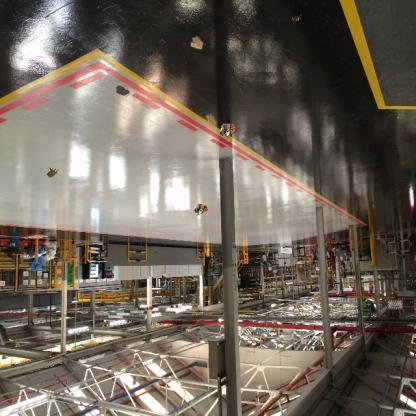dirty: (218, 122, 237, 140), (202, 113, 218, 130), (192, 202, 210, 217), (189, 34, 205, 50), (290, 12, 303, 24)
liquid: (115, 85, 130, 98), (46, 166, 59, 178)
